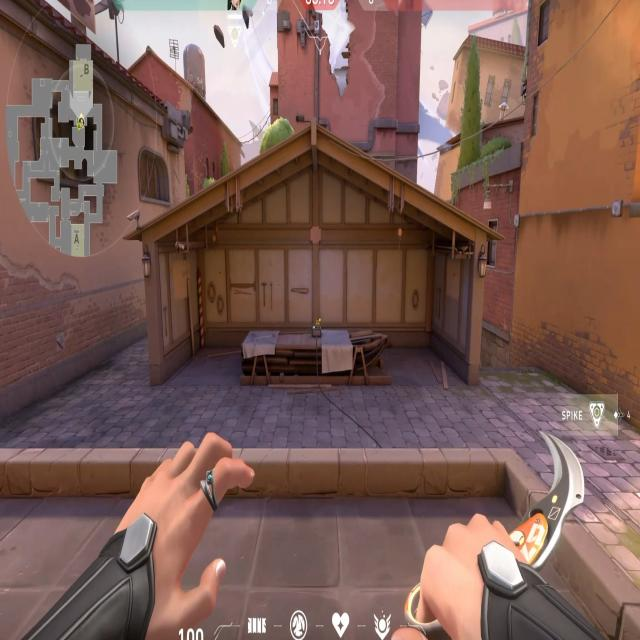B_Garage_Left: (141, 238, 270, 383)
B_Garage_Right: (362, 234, 484, 380)
Throwables: (27, 90, 108, 203), (135, 147, 174, 211)
